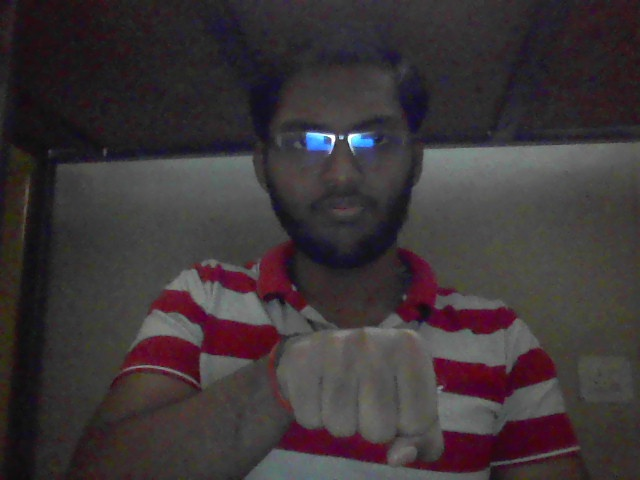Not_Hungry: (244, 298, 461, 480)
